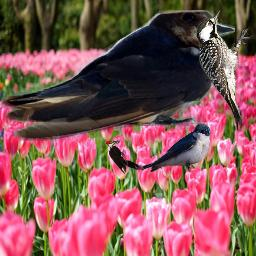Swallow: (1, 10, 235, 141), (141, 123, 211, 172)
Woodpecker: (196, 10, 253, 133), (104, 140, 144, 174)
